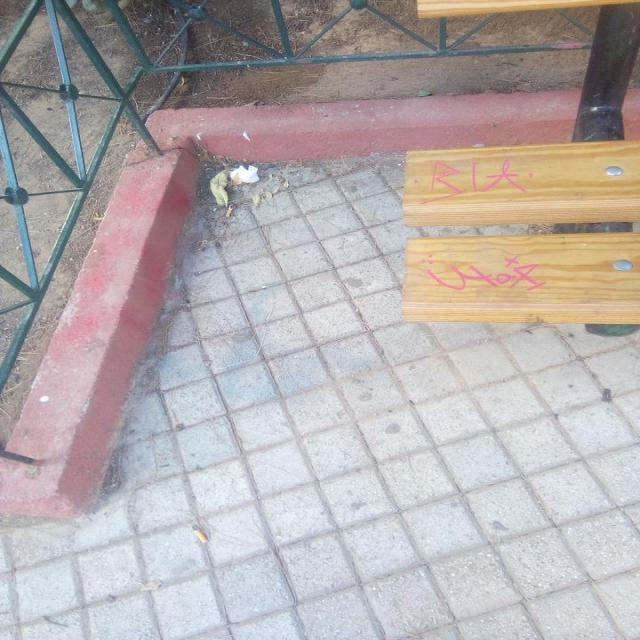nonspitting: (423, 254, 547, 296), (423, 158, 527, 202)
